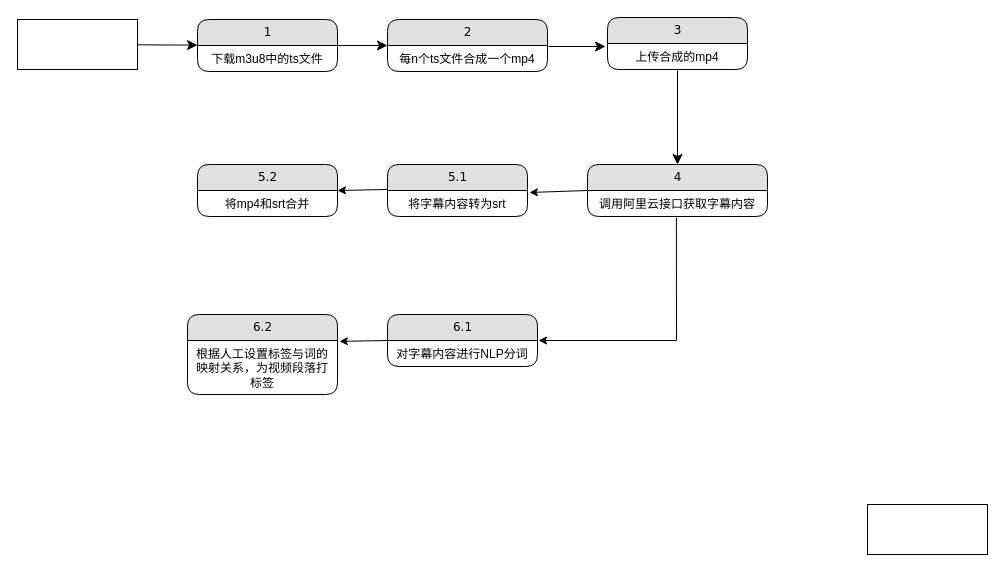
Some shapes in this 1005 by 572 pixel diagram are drawn without their labels. The shapes that lost their labels are listed below. From the top down, each one's centre as x and y in pixels, then its label:
At point 77,44: "从前端获取的m3u8地址".
At point 927,529: "处理后的短视频MP4下载地址".
